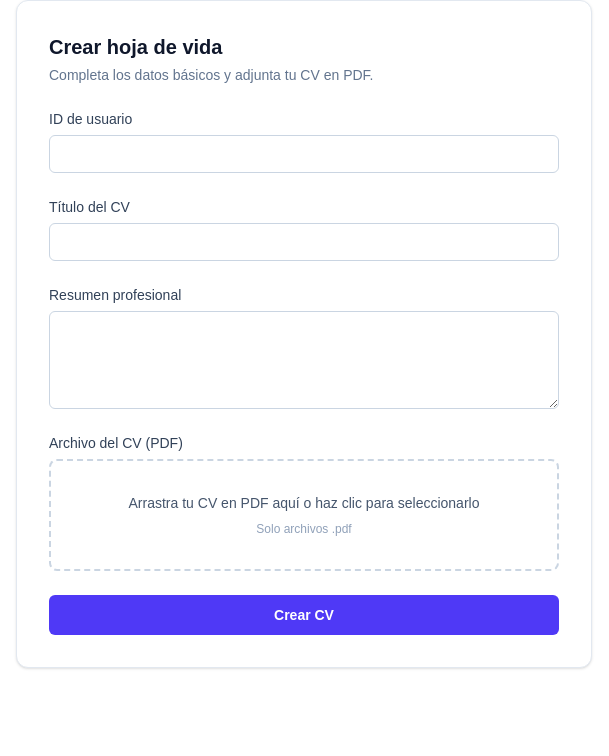
it: ResumeForm › muestra el mensaje de validación del backend cuando la API responde 400
The width and height of the screenshot is (609, 756).
Type "3fa85f64-5717-4562-b3fc-2c963f66afa6" into the field labelled "ID de usuario" at (304, 154), box top-left (49, 135), bottom-right (559, 173)
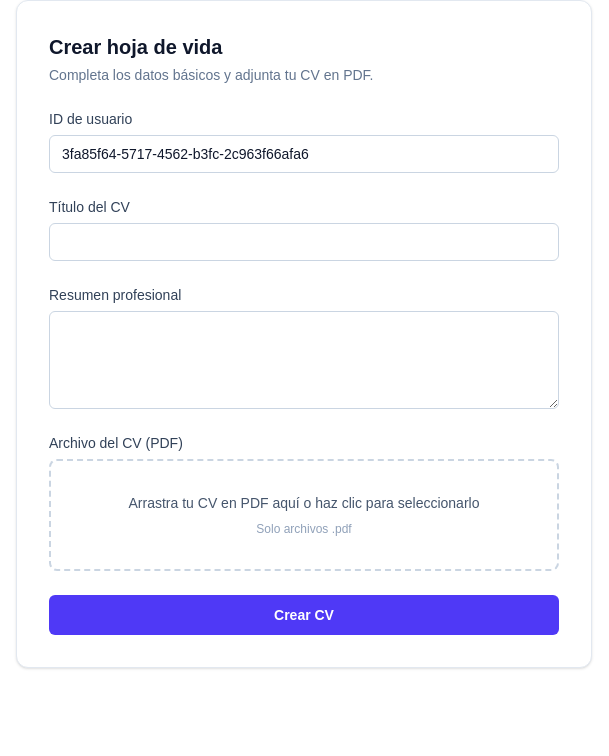
Type "Backend Engineer" into the field labelled "Título del CV" at (304, 242), box top-left (49, 223), bottom-right (559, 261)
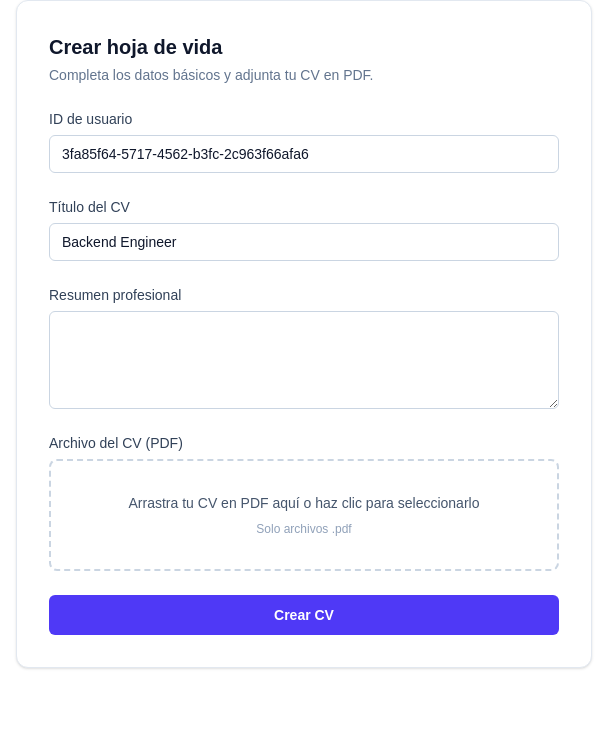
Click the button "Crear CV" at (304, 615), box top-left (49, 595), bottom-right (559, 635)
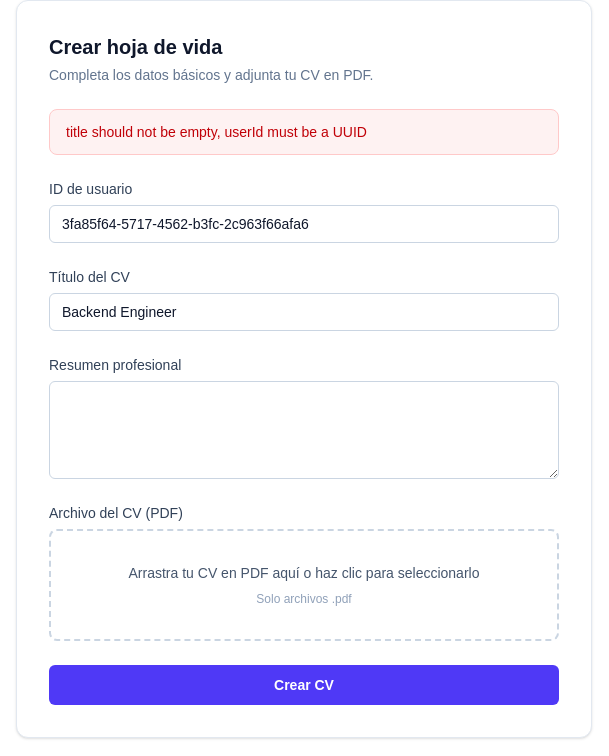
Now the message reads "title should not be empty, userId must be a UUID", box top-left (66, 124), bottom-right (367, 140)
